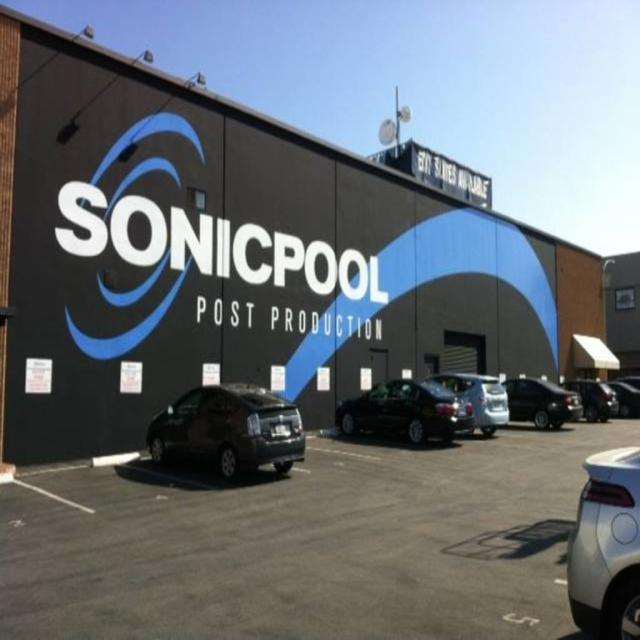car: (138, 377, 307, 489), (333, 370, 477, 438)
